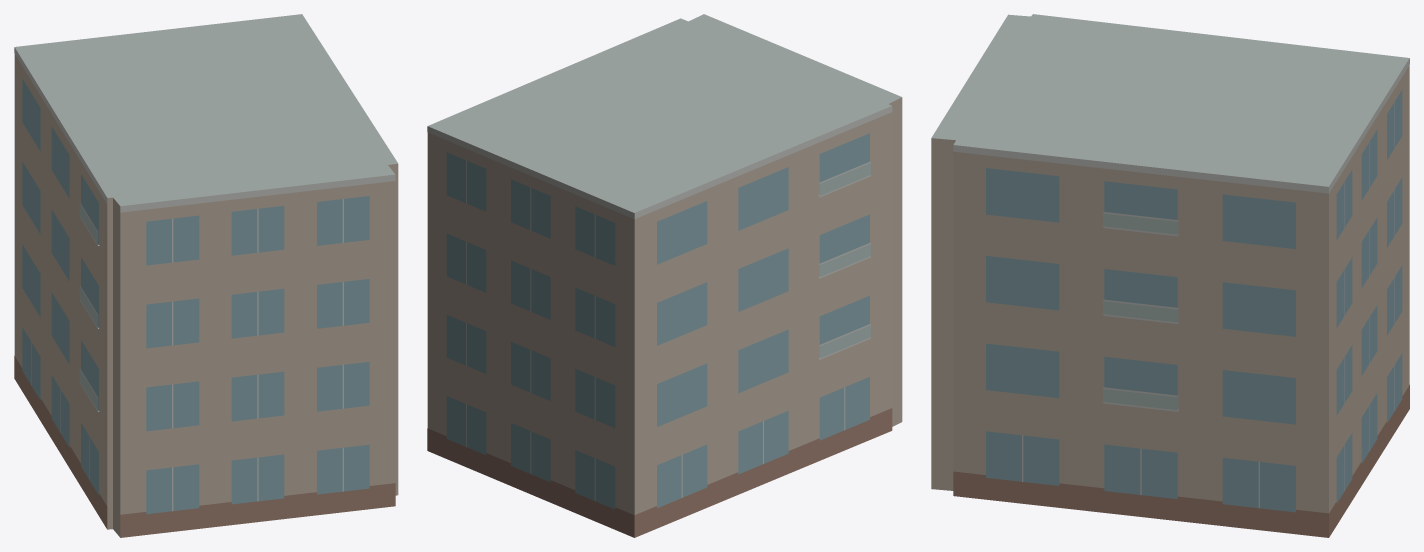
The model's file is survey-upis-32991812.glb.
The picture shows the model from 3 angles, left to right: view 1: azimuth 30°, elevation 25°; view 2: azimuth 150°, elevation 25°; view 3: azimuth 270°, elevation 25°; orthographic projection. The views are drawn at different scales.
Visible parts, largest first — view 1: survey-upis-32991812.tmp; view 2: survey-upis-32991812.tmp; view 3: survey-upis-32991812.tmp.
Part boxes in pixels (x1=…): survey-upis-32991812.tmp: x1=14, y1=14, x2=398, y2=537; survey-upis-32991812.tmp: x1=427, y1=14, x2=902, y2=537; survey-upis-32991812.tmp: x1=931, y1=14, x2=1409, y2=537.
Size of the model in its own units: 13.53 by 12.8 by 15.82.
